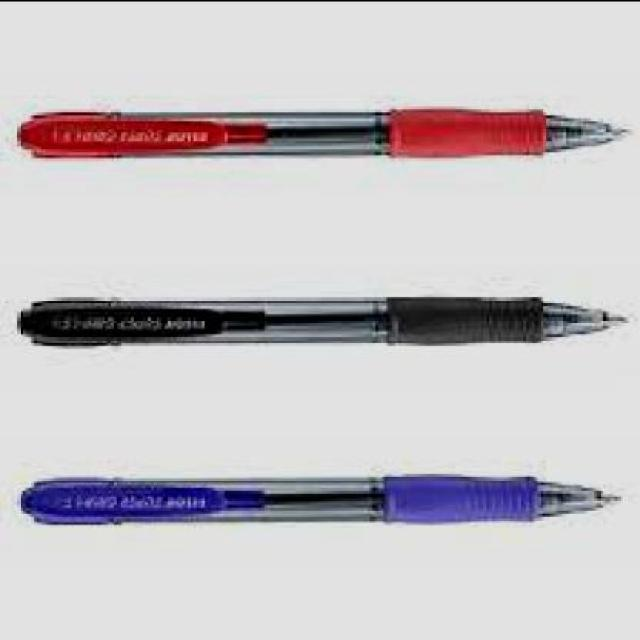pen: (29, 299, 633, 352), (19, 477, 619, 530), (28, 108, 623, 161)
